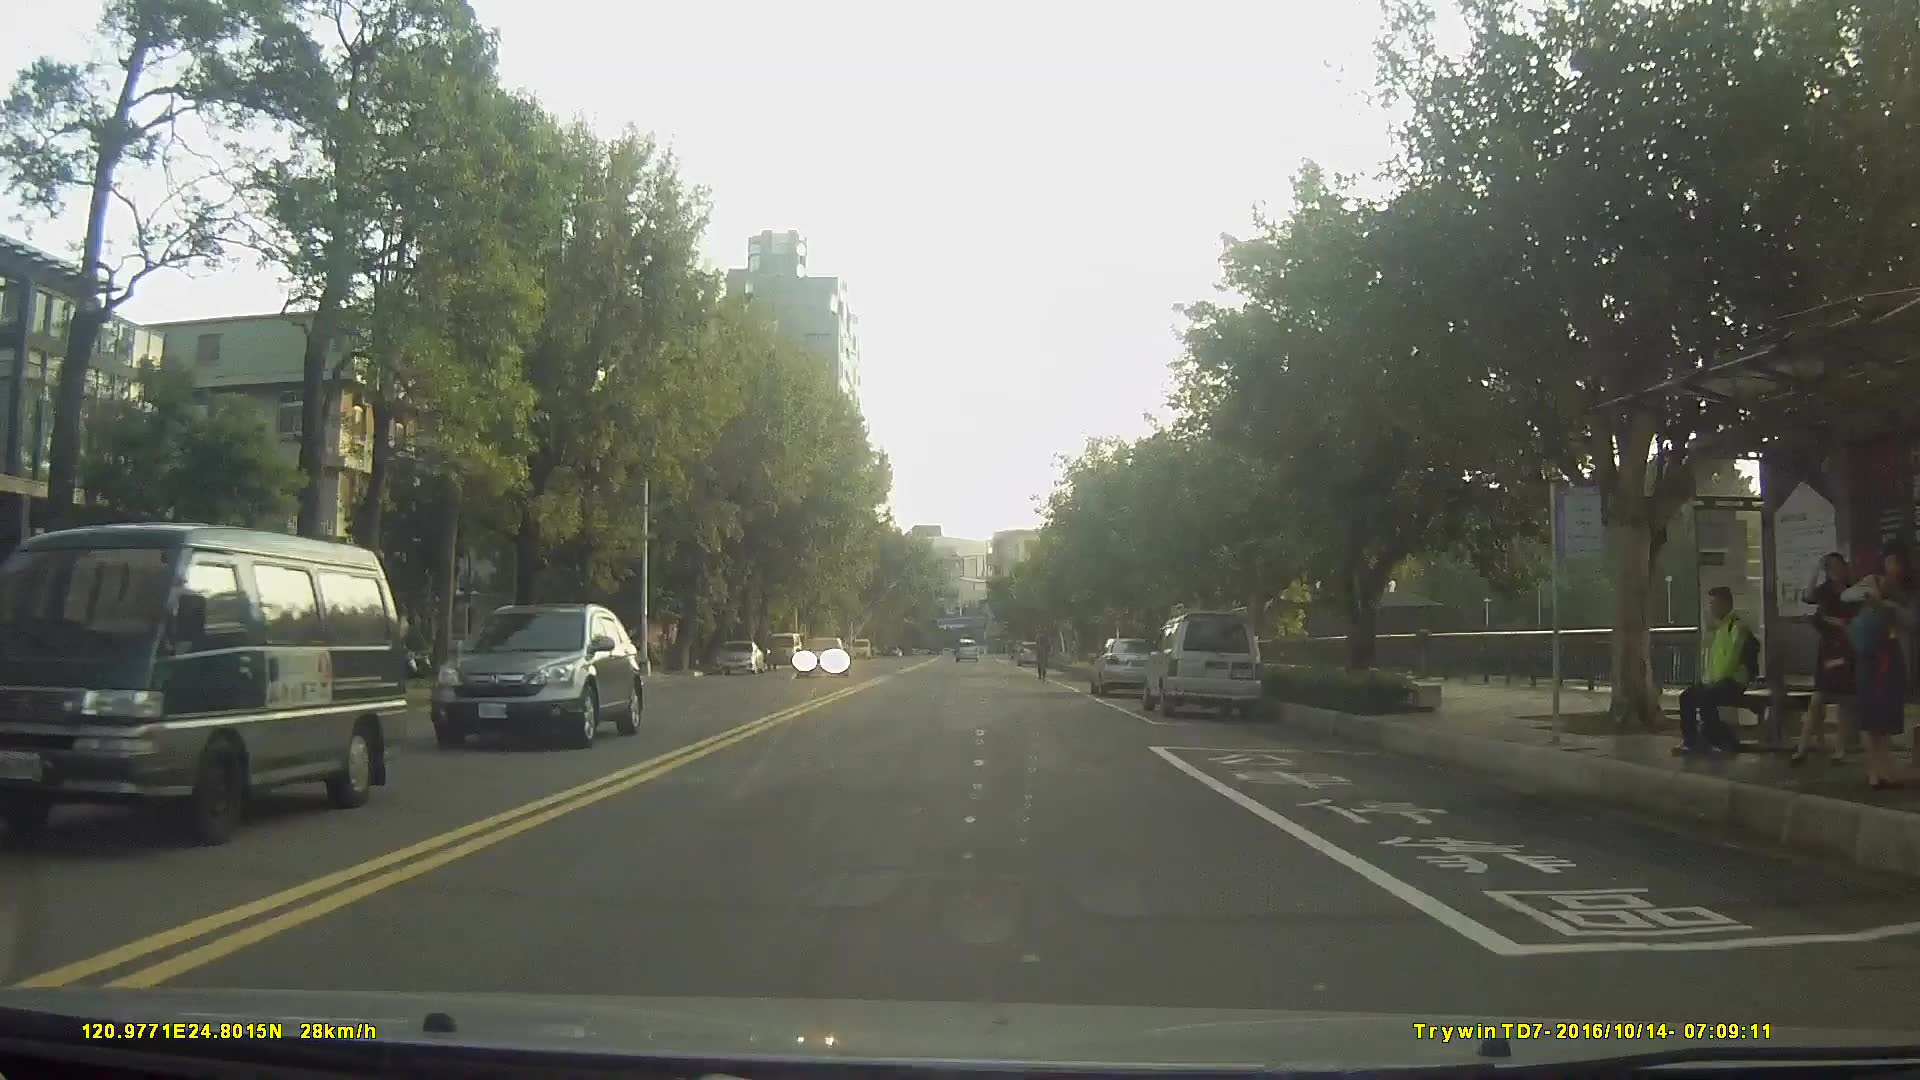pedestrian: (1677, 577, 1780, 775), (1790, 547, 1879, 764), (1837, 536, 1909, 796)
rider: (1033, 631, 1053, 686)
vehicle: (0, 521, 412, 849), (428, 603, 643, 747), (1141, 612, 1264, 720), (1091, 634, 1159, 695), (792, 634, 847, 679), (714, 637, 763, 676), (767, 627, 803, 669), (1016, 640, 1044, 667), (953, 635, 980, 662)
